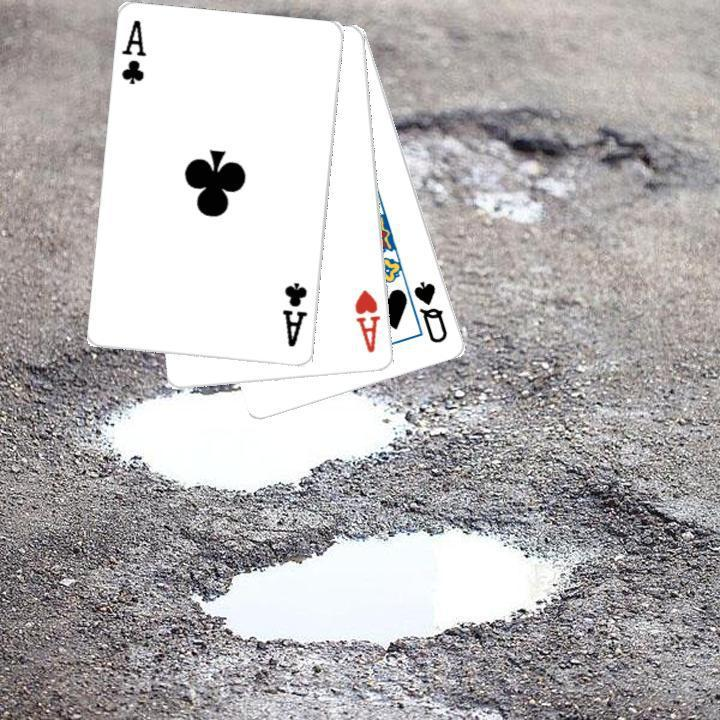A: (118, 16, 149, 88), (351, 286, 383, 355), (279, 279, 310, 349)
Q: (410, 276, 450, 346)
